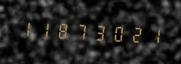eight: (53, 18, 70, 42)
one: (17, 16, 34, 41), (143, 22, 160, 47), (35, 17, 52, 41)
seven: (71, 19, 88, 43)
three: (89, 19, 106, 44)
two: (125, 21, 142, 46)
zero: (107, 20, 124, 45)
